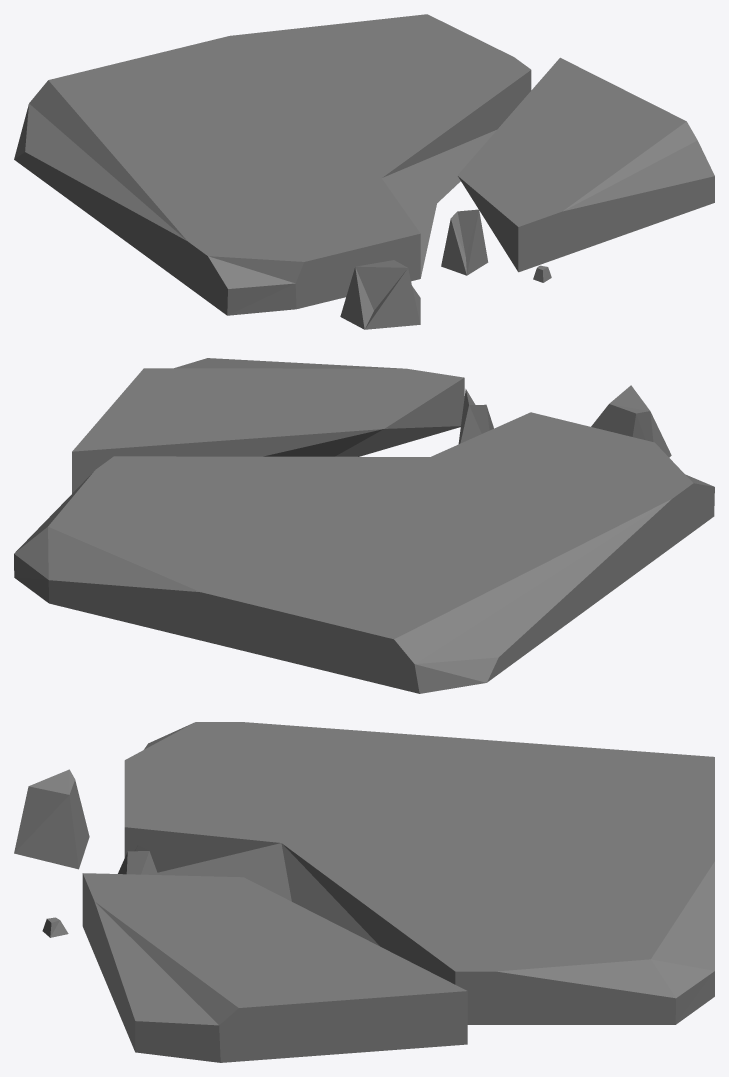
Rendered from Tile_05.FBX.
3 views of the same model, one above another, from view 1: azimuth 30°, elevation 25°; view 2: azimuth 150°, elevation 25°; view 3: azimuth 270°, elevation 25° (orthographic). The views are drawn at different scales.
Visible parts, largest first — view 1: Tile_05; view 2: Tile_05; view 3: Tile_05.
Boxes of the visible parts, left/top/right/bottom form: Tile_05: left=14, top=14, right=714, bottom=329; Tile_05: left=14, top=358, right=714, bottom=693; Tile_05: left=14, top=722, right=714, bottom=1062.
Bounding box in the file's own units: 1.73 × 0.1784 × 1.78.
